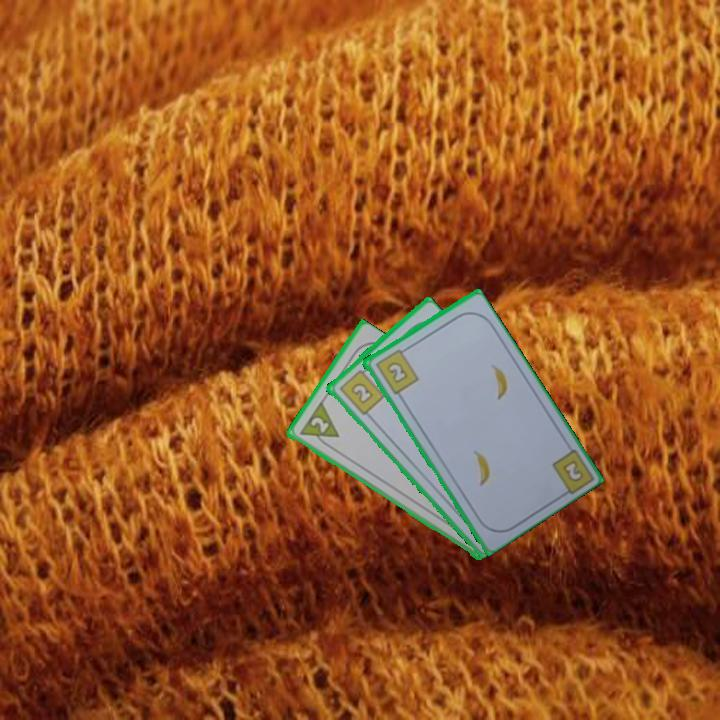2b: (335, 364, 387, 418), (372, 344, 421, 397), (561, 459, 584, 483)
2p: (295, 399, 342, 452)
